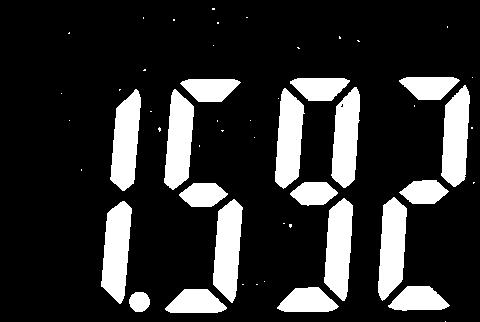1: (100, 87, 141, 306)
2: (378, 73, 472, 313)
5: (161, 74, 248, 315)
9: (271, 75, 363, 315)
dot: (127, 290, 151, 313)
